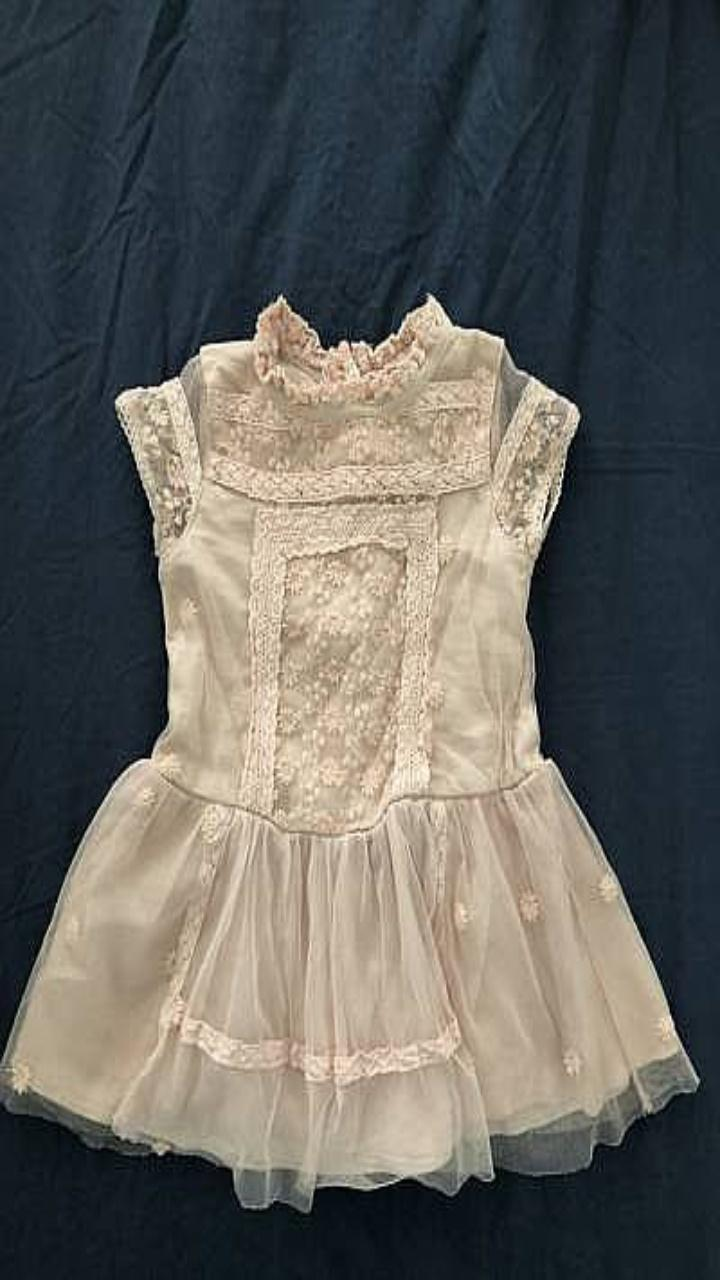Dresses: (0, 294, 698, 1209)
